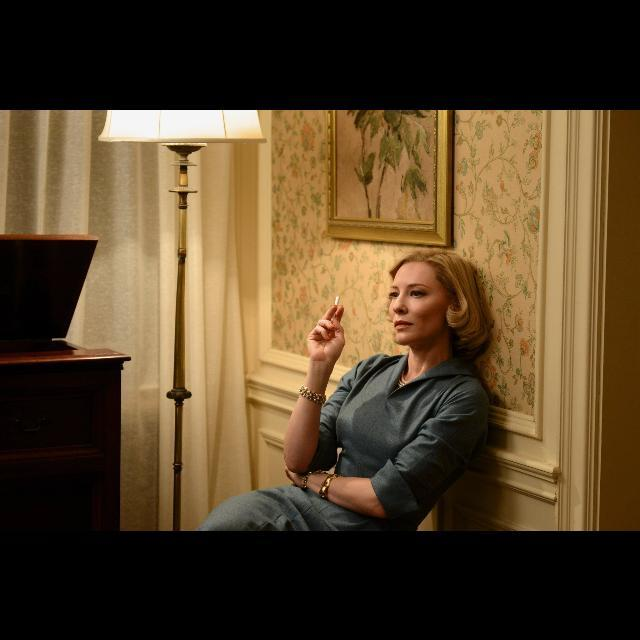rokok: (332, 296, 342, 304)
